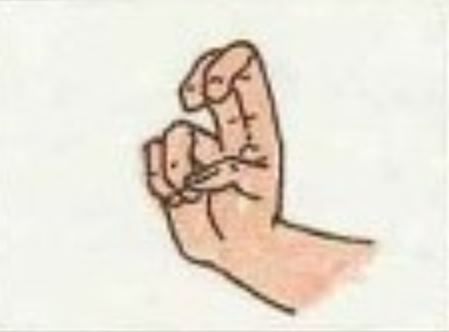미음: (116, 30, 305, 277)
